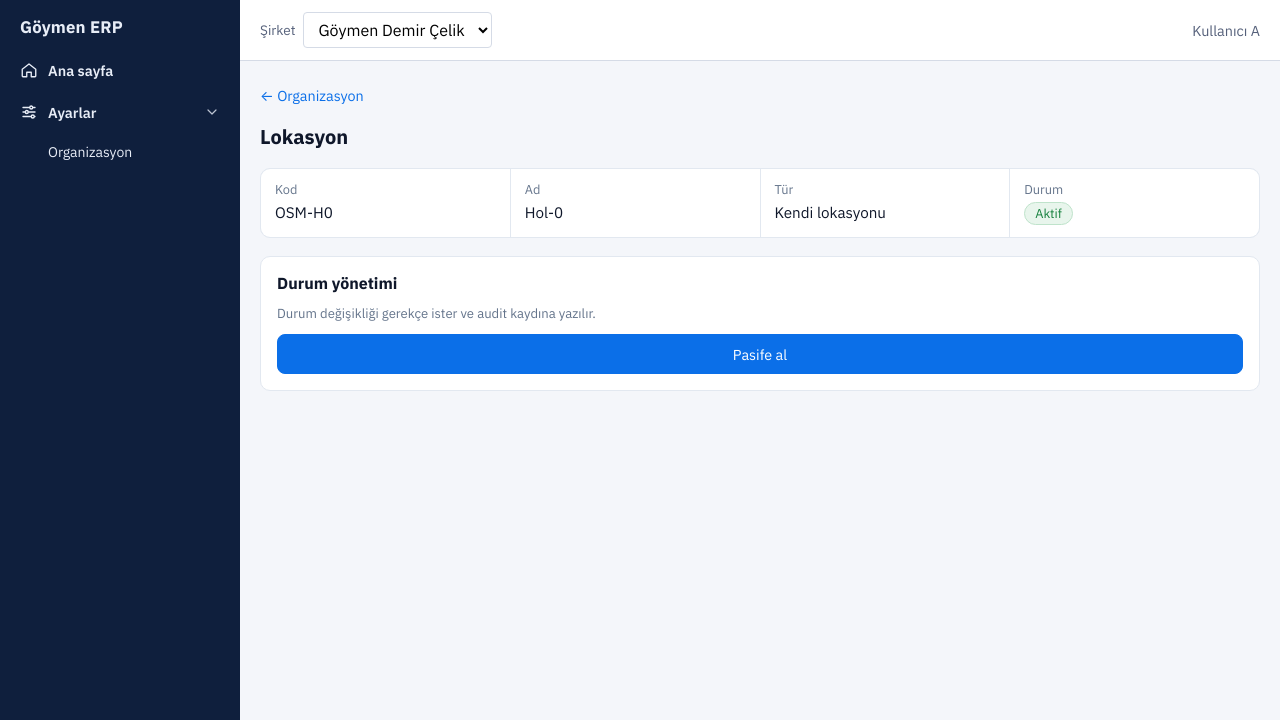
Scenario: who may change the state › offers it to a holder of the status capability
The width and height of the screenshot is (1280, 720).
Click the button "Pasife al" at point(760, 354), box 277,334 -> 1243,374
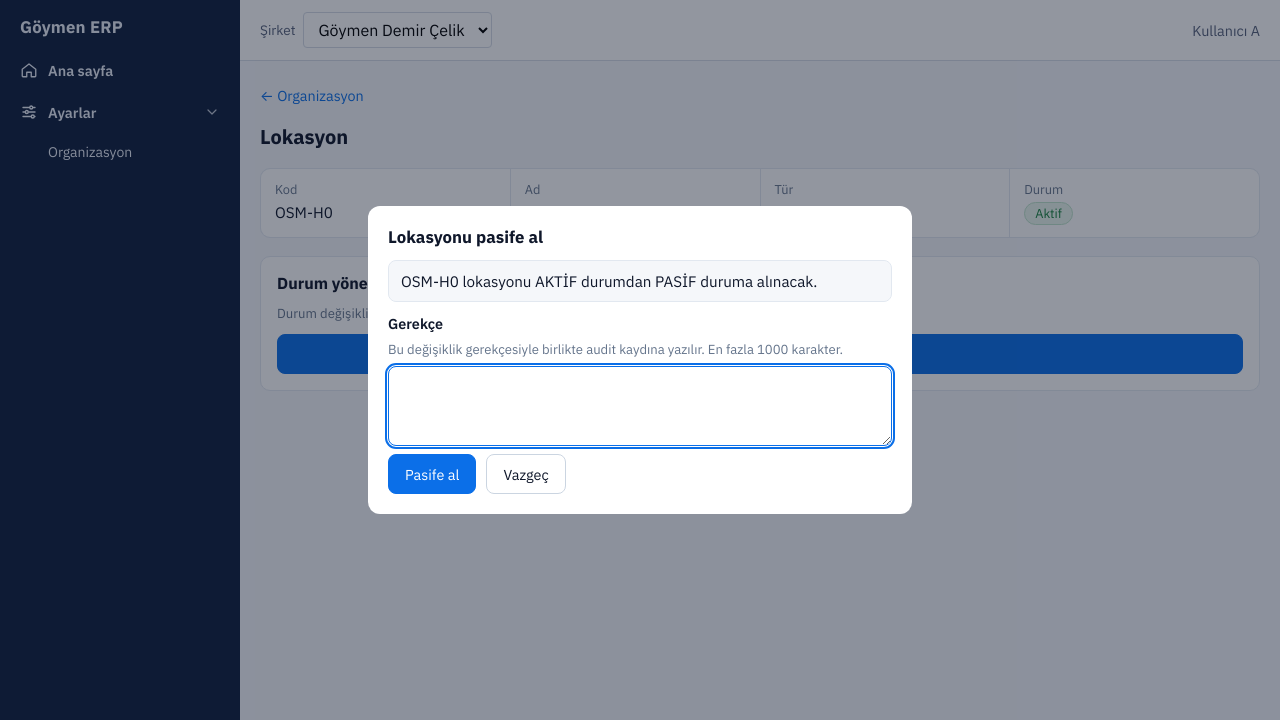
Expected: the text box labelled "Gerekçe" is shown, 388,366 -> 892,446
